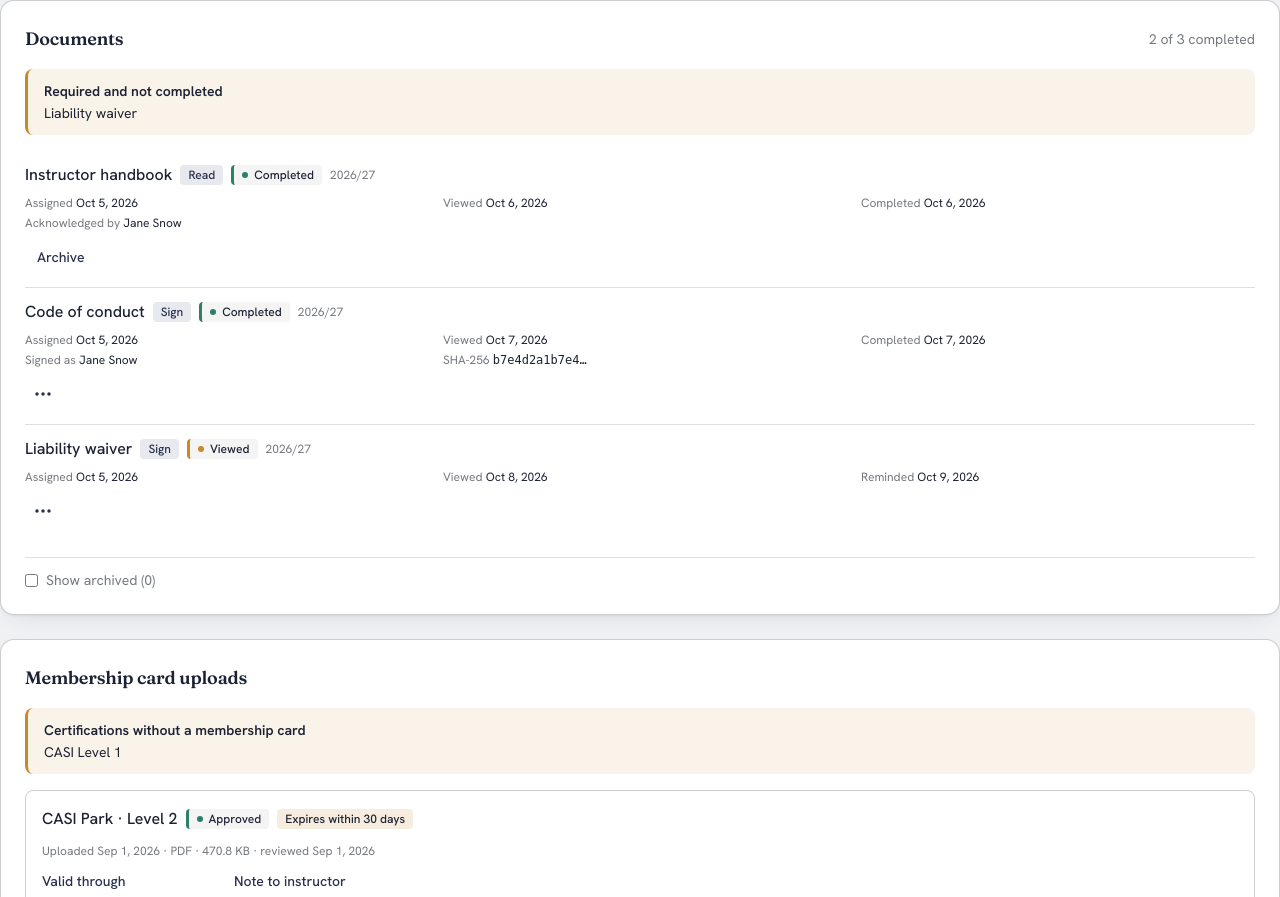
Scenario: InstructorDocumentsSection — documents › shows a reminder error
The image size is (1280, 897).
Click the button named "More actions for Liability waiver" at [43, 511], box [25,493,61,529]
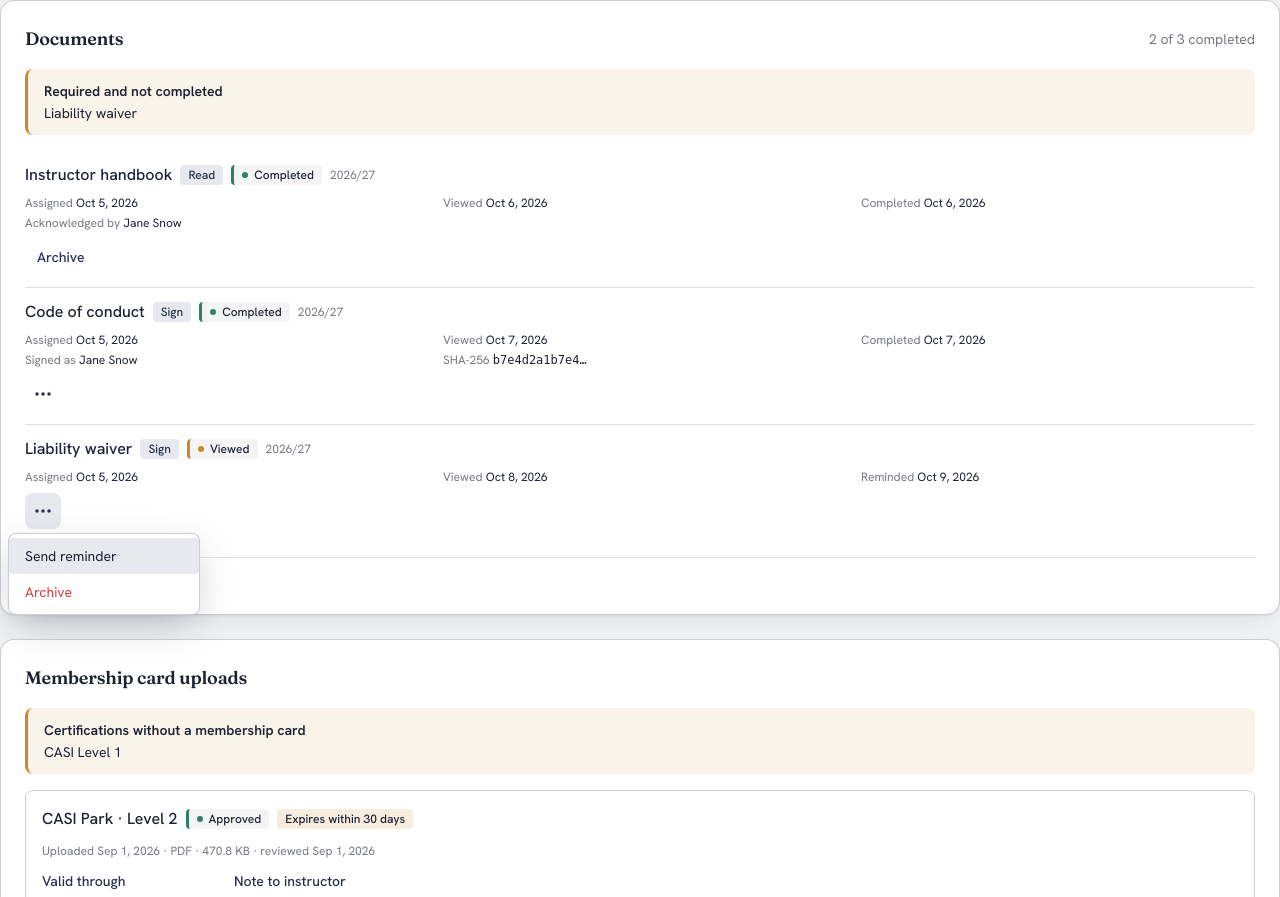
Click the menu item "Send reminder" at [104, 556], box [9,538,199,574]
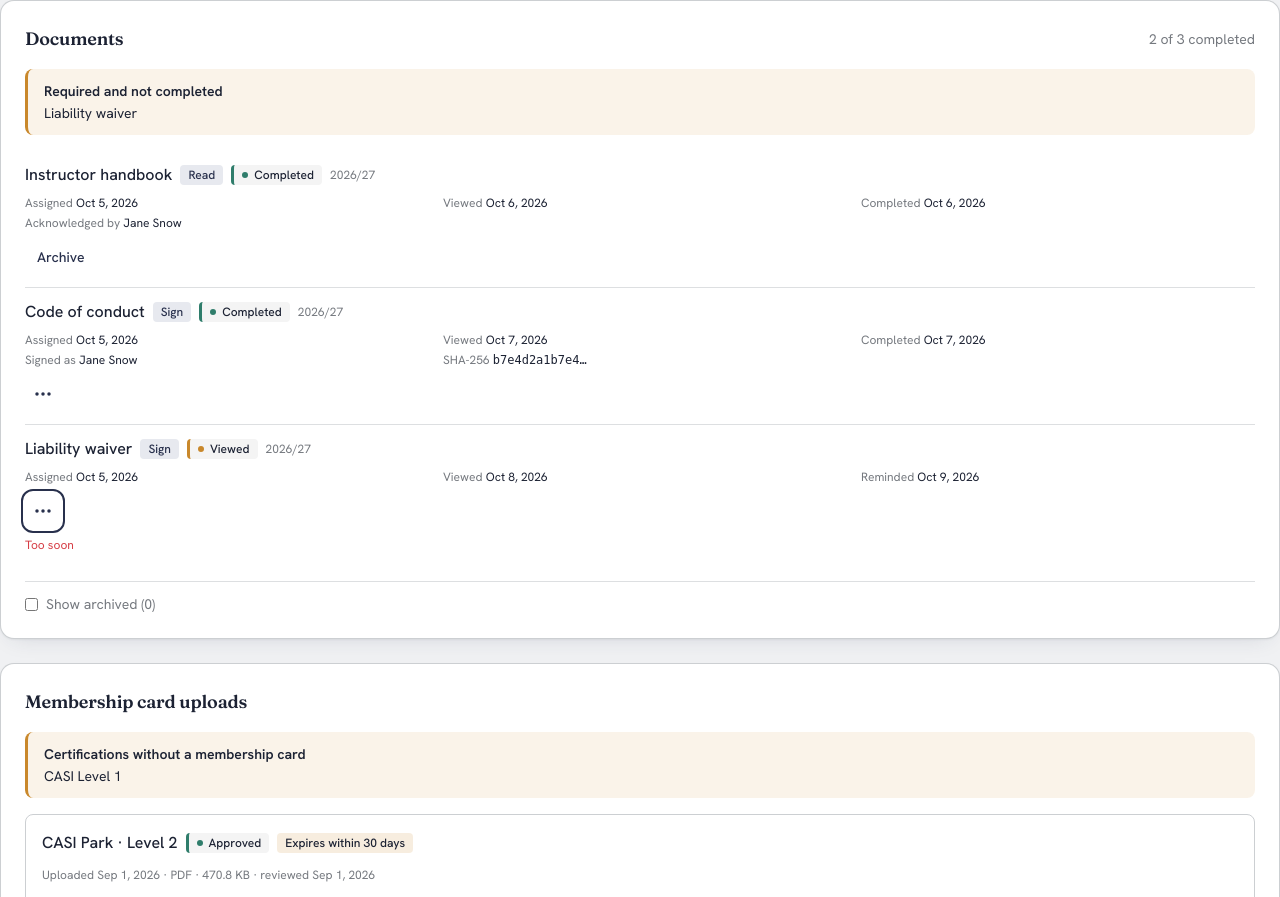
Check: the message "Too soon" is shown, box [25,537,74,553]
